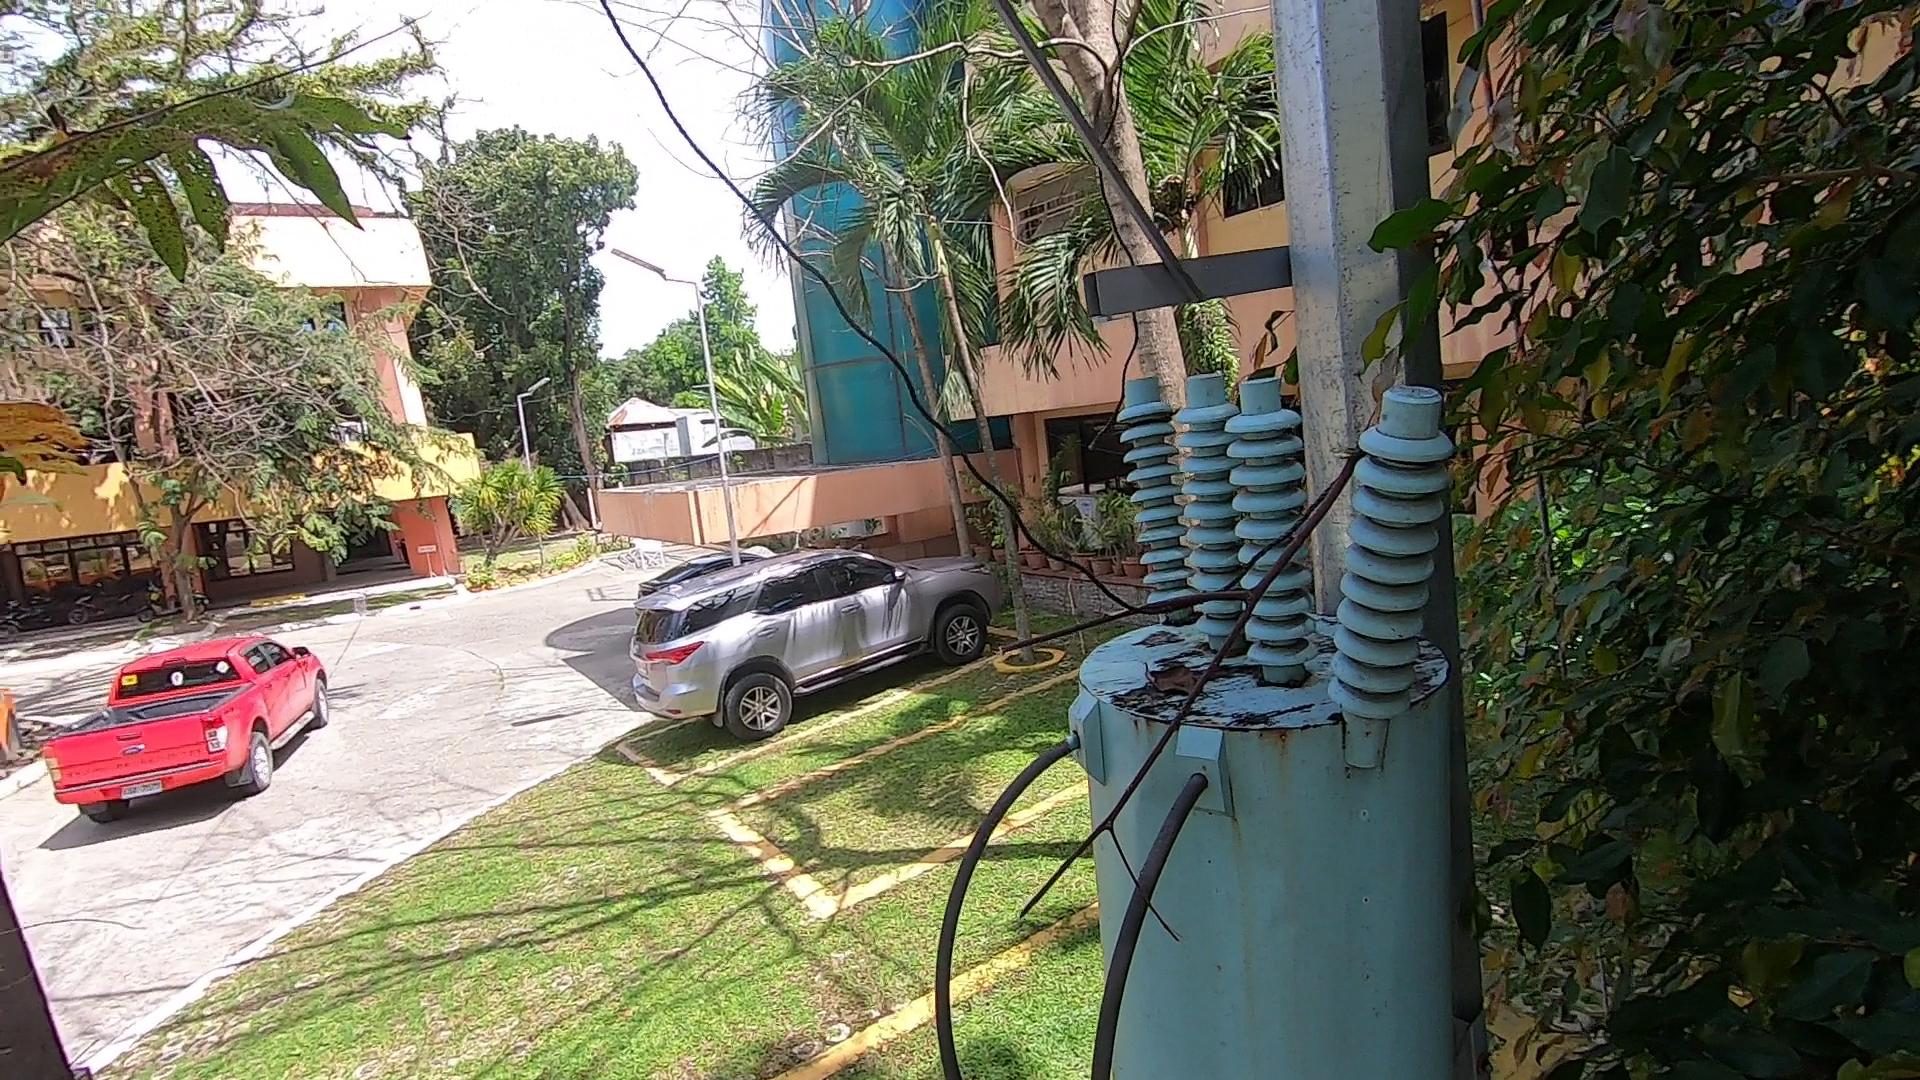leaf: (1135, 651, 1213, 703)
tree branch: (960, 430, 1415, 945)
